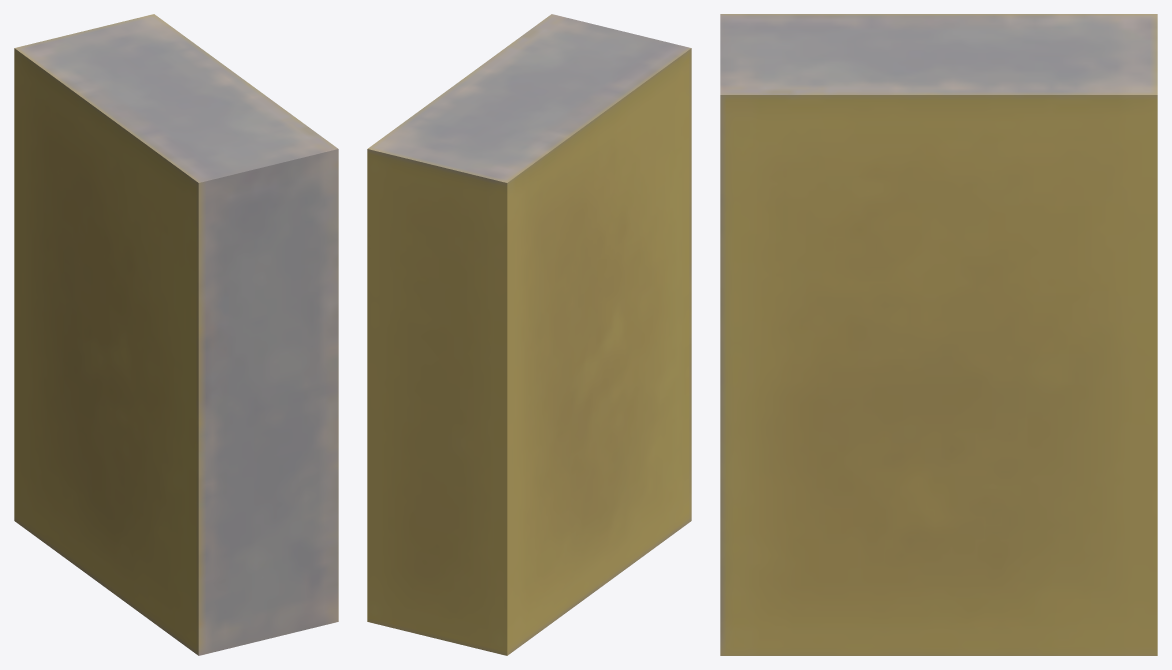
The model's file is Pfb_Indoors_Books.fbx.
The picture shows the model from 3 angles, left to right: view 1: azimuth 30°, elevation 25°; view 2: azimuth 150°, elevation 25°; view 3: azimuth 270°, elevation 25°; orthographic projection. The views are drawn at different scales.
Visible parts, largest first — view 1: Mat_Indoors_Books_01; view 2: Mat_Indoors_Books_01; view 3: Mat_Indoors_Books_01.
Boxes of the visible parts, left/top/right/bottom form: Mat_Indoors_Books_01: left=14, top=14, right=338, bottom=655; Mat_Indoors_Books_01: left=367, top=14, right=691, bottom=655; Mat_Indoors_Books_01: left=720, top=14, right=1157, bottom=655.
Size of the model in its own units: 0.1421 by 0.4591 by 0.3245.
Materials: 1 (1 with a texture image).
